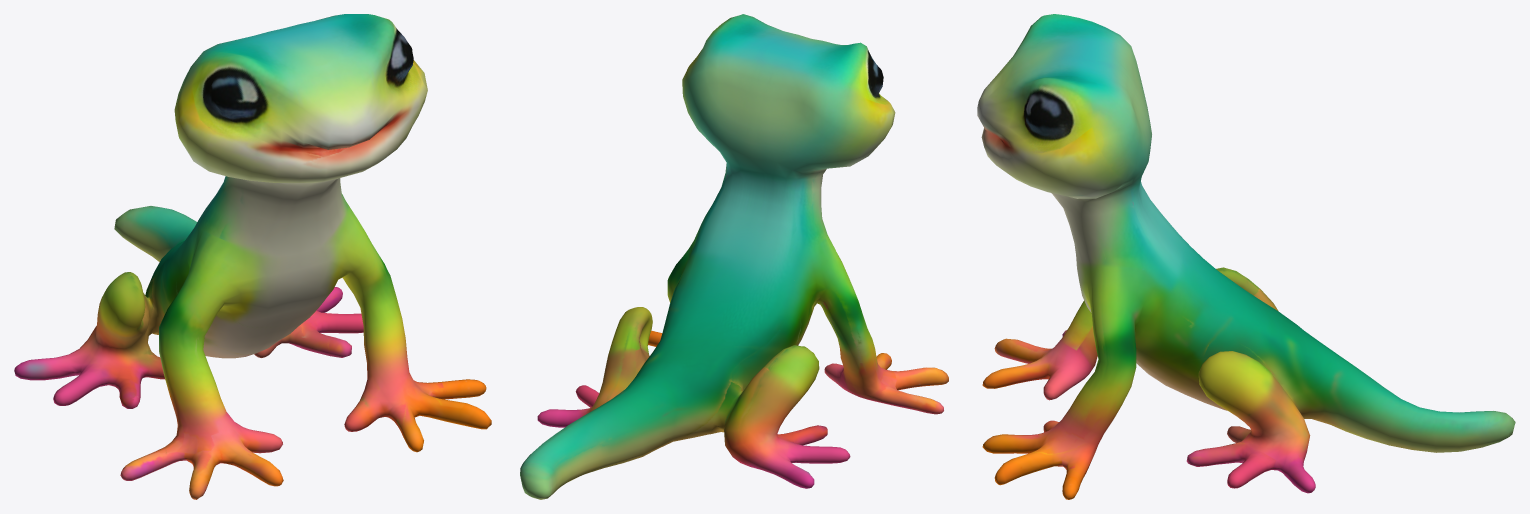
File: gecko_raw.glb
3 views of the same model, side by side, from view 1: azimuth 30°, elevation 25°; view 2: azimuth 150°, elevation 25°; view 3: azimuth 270°, elevation 25° (orthographic). The views are drawn at different scales.
Parts seen in each view (by area): view 1: Gecko; view 2: Gecko; view 3: Gecko.
Part boxes in pixels (left/top/right/bottom): Gecko: left=14, top=14, right=491, bottom=499; Gecko: left=520, top=14, right=948, bottom=499; Gecko: left=977, top=14, right=1515, bottom=499.
Size of the model in its own units: 1.44 by 1.54 by 2.01.
Materials: 1 (1 with a texture image).
